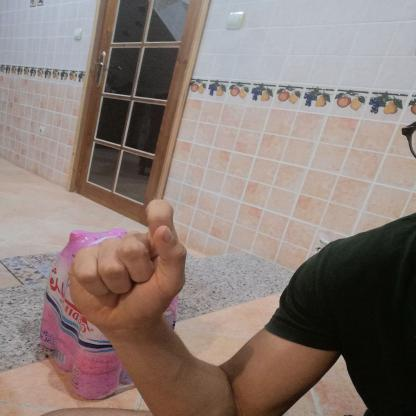FAA: (55, 190, 200, 340)
